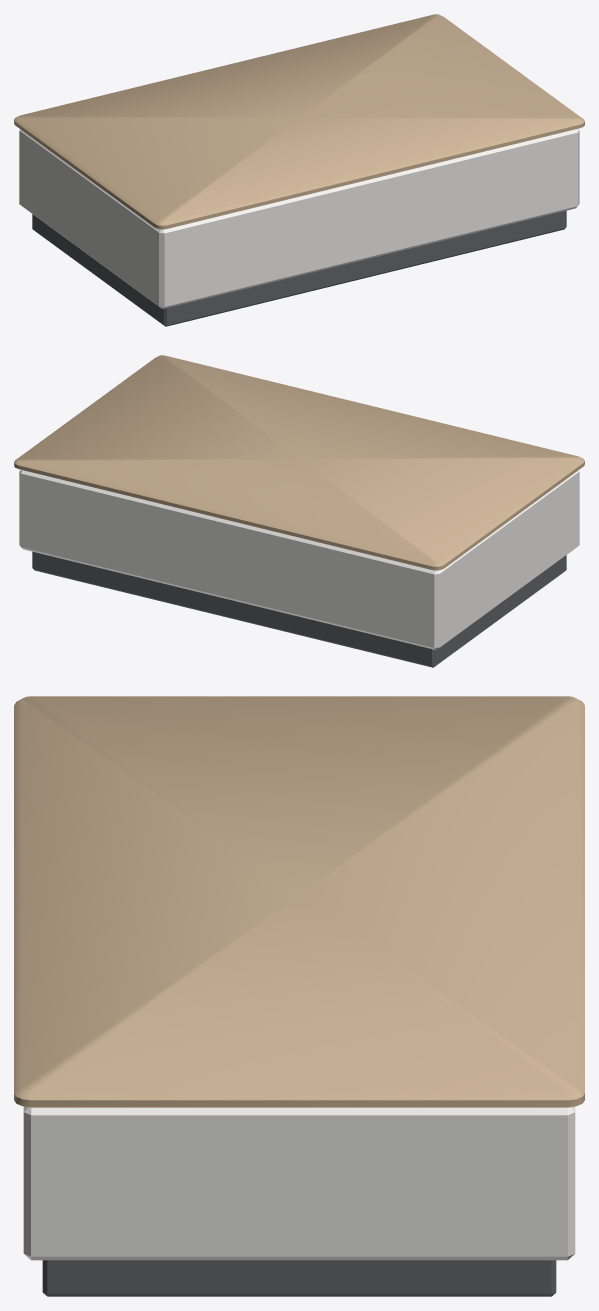
3 views of the same model, one above another, from view 1: azimuth 30°, elevation 25°; view 2: azimuth 150°, elevation 25°; view 3: azimuth 270°, elevation 25° (orthographic). The views are drawn at different scales.
Visible parts, largest first — view 1: end-display-plinth; view 2: end-display-plinth; view 3: end-display-plinth.
Boxes of the visible parts, bbox=[...] form: end-display-plinth: bbox=[14, 14, 584, 326]; end-display-plinth: bbox=[14, 355, 584, 667]; end-display-plinth: bbox=[14, 696, 584, 1296].
Size of the model in its own units: 1 by 0.25 by 0.6001.
